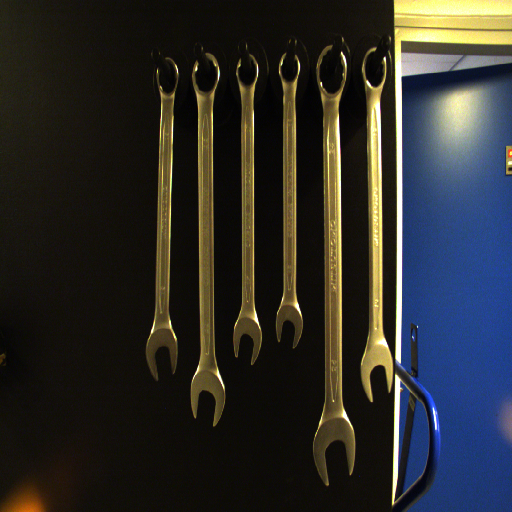bottom: (310, 408, 358, 487), (358, 340, 397, 404), (188, 368, 228, 427), (144, 327, 183, 382), (229, 315, 265, 367), (272, 304, 307, 349)
top: (312, 42, 348, 100), (189, 51, 222, 97), (359, 44, 390, 92), (153, 55, 181, 97), (231, 53, 261, 90), (276, 52, 302, 86)
